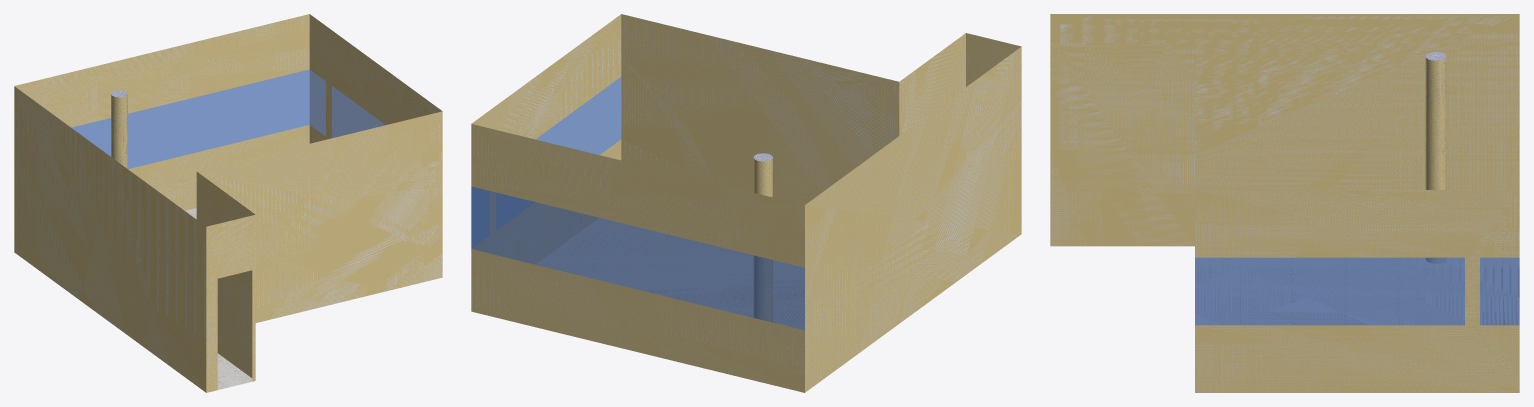
File: LAB012.obj
3 views of the same model, side by side, from view 1: azimuth 30°, elevation 25°; view 2: azimuth 150°, elevation 25°; view 3: azimuth 270°, elevation 25° (orthographic). The views are drawn at different scales.
Visible parts, largest first — view 1: Mesh4 LAB012 Model, Mesh1 Group1 LAB012 Model; view 2: Mesh4 LAB012 Model, Mesh1 Group1 LAB012 Model; view 3: Mesh4 LAB012 Model, Mesh1 Group1 LAB012 Model.
Boxes of the visible parts, left/top/right/bottom form: Mesh4 LAB012 Model: left=14, top=14, right=442, bottom=392; Mesh1 Group1 LAB012 Model: left=111, top=90, right=127, bottom=168; Mesh4 LAB012 Model: left=471, top=14, right=1021, bottom=392; Mesh1 Group1 LAB012 Model: left=753, top=153, right=772, bottom=321; Mesh4 LAB012 Model: left=1050, top=14, right=1519, bottom=392; Mesh1 Group1 LAB012 Model: left=1425, top=52, right=1446, bottom=263.
Size of the model in its own units: 5.57 by 2.99 by 6.27.
Materials: 7 (2 with a texture image).
